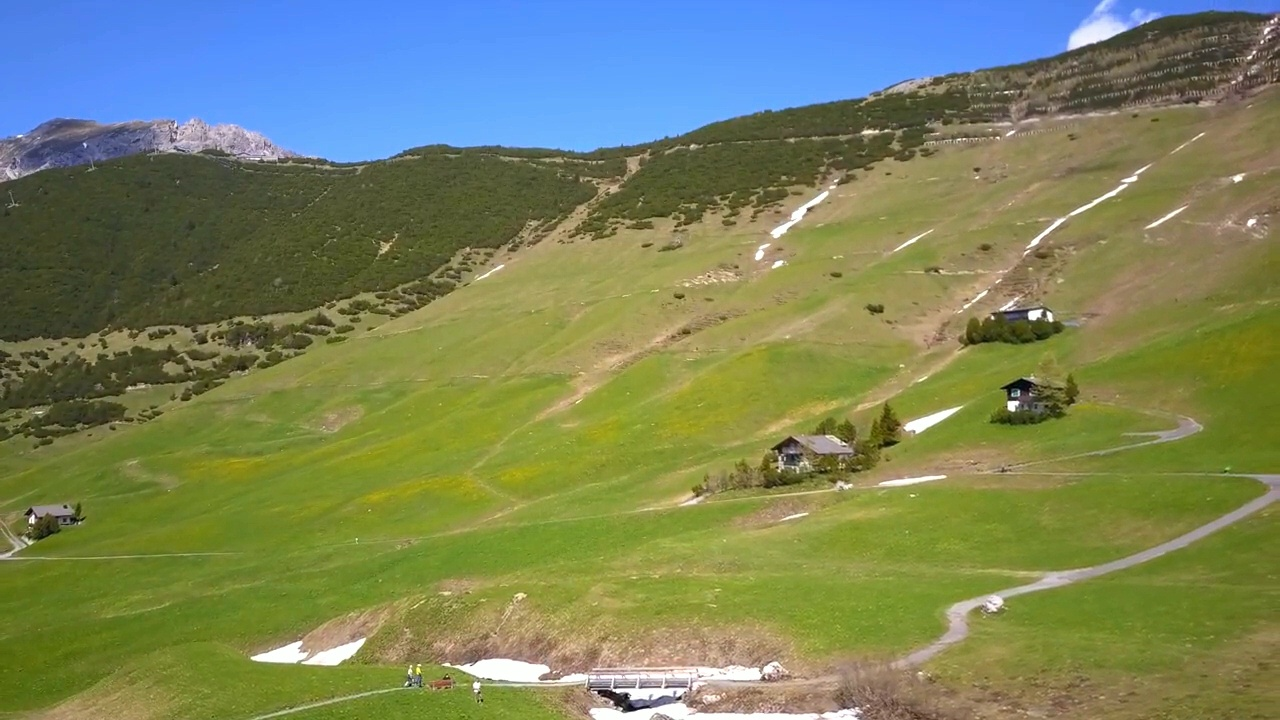insan: (470, 674, 484, 703), (401, 663, 415, 689), (413, 665, 426, 689)
